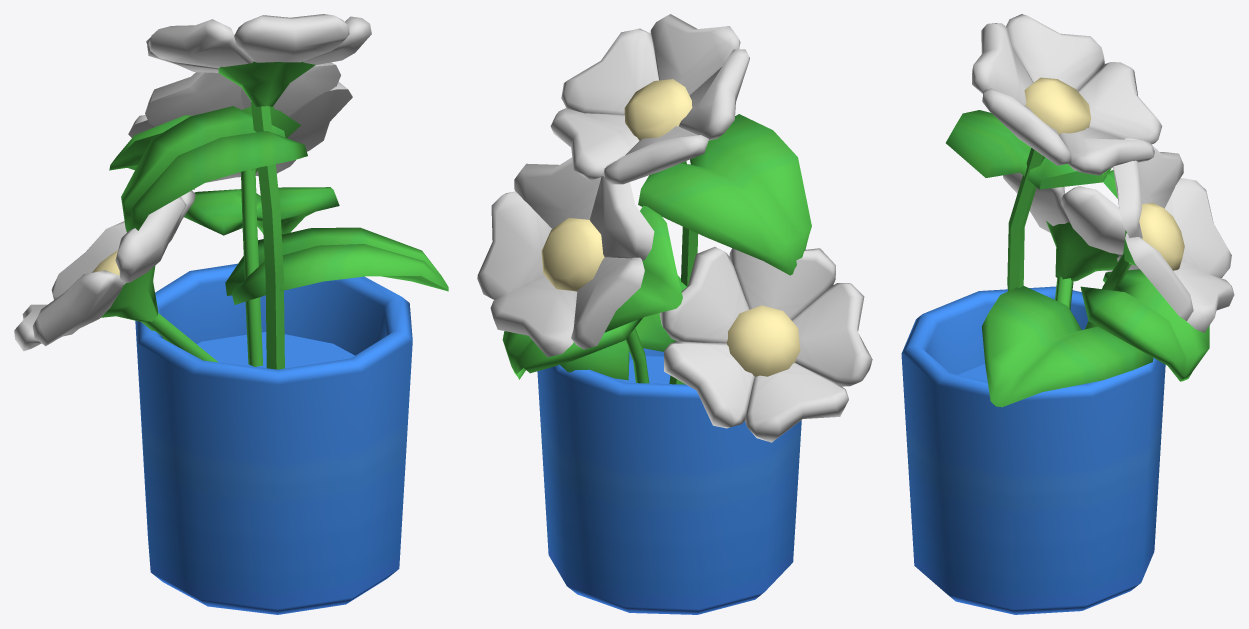
The model's file is Pot_06.fbx.
The picture shows the model from 3 angles, left to right: view 1: azimuth 30°, elevation 25°; view 2: azimuth 150°, elevation 25°; view 3: azimuth 270°, elevation 25°; orthographic projection. The views are drawn at different scales.
Parts seen in each view (by area): view 1: Pot_06, Flower_02, Flower_01, Flower_03; view 2: Pot_06, Flower_02, Flower_01, Flower_03; view 3: Pot_06, Flower_01, Flower_02, Flower_03.
Boxes of the visible parts, x1,y1,x2,y2 form: Pot_06: (135, 263, 412, 614); Flower_02: (121, 14, 371, 369); Flower_01: (109, 62, 448, 366); Flower_03: (14, 190, 218, 362); Pot_06: (537, 348, 801, 614); Flower_02: (550, 14, 811, 384); Flower_01: (477, 157, 686, 383); Flower_03: (659, 247, 872, 442); Pot_06: (901, 286, 1165, 614); Flower_01: (981, 138, 1234, 407); Flower_02: (946, 14, 1162, 291); Flower_03: (1003, 172, 1139, 309).
Bounding box in the file's own units: 1.96 × 2.8 × 1.59.
